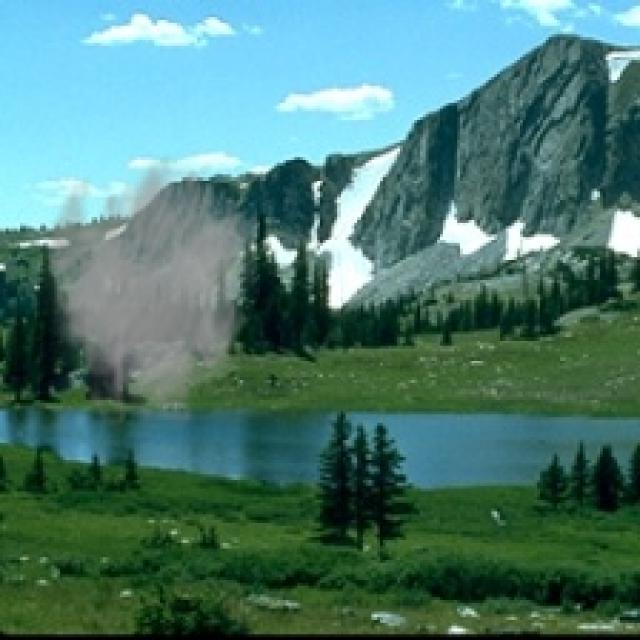smoke: (32, 152, 257, 434)
